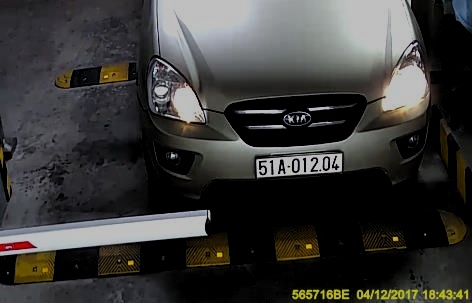plate: (254, 151, 344, 181)
